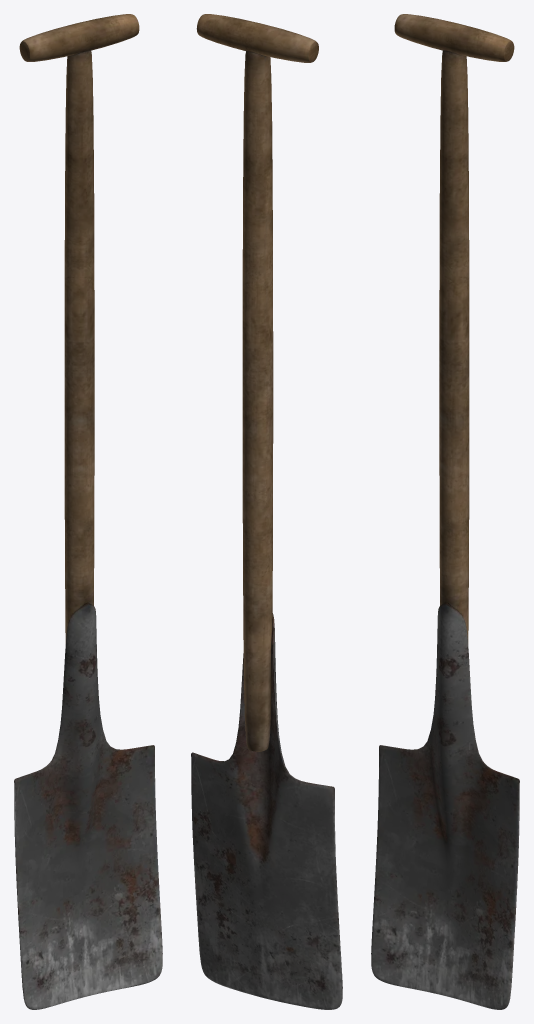
File: rusted_spade_01.glb
3 renders of one model, left to right at view 1: azimuth 30°, elevation 25°; view 2: azimuth 150°, elevation 25°; view 3: azimuth 330°, elevation 25°, orthographic. The views are drawn at different scales.
Visible parts, largest first — view 1: rusted_spade_01; view 2: rusted_spade_01; view 3: rusted_spade_01.
Boxes of the visible parts, box(x1,y1,x2,y2) form: rusted_spade_01: box(14, 14, 162, 1009); rusted_spade_01: box(191, 14, 342, 1009); rusted_spade_01: box(371, 14, 519, 1009).
Size of the model in its own units: 0.1681 by 1.1 by 0.0456.
Materials: 1 (1 with a texture image).
